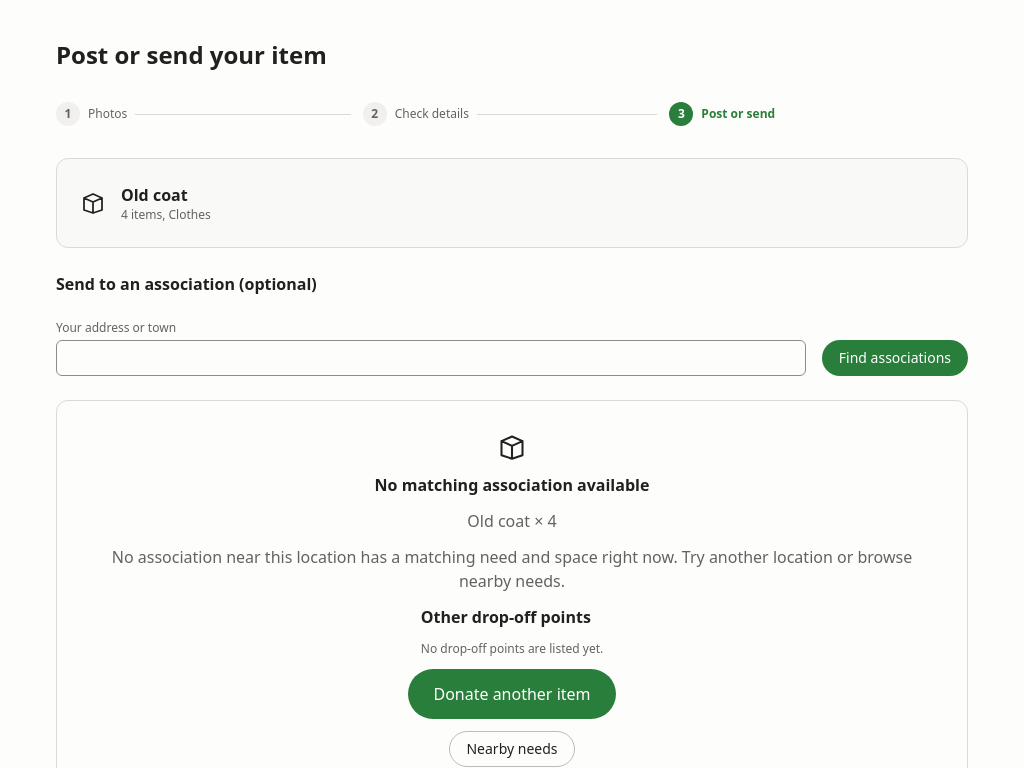
Test case: starts a fresh item from the no match screen on the same donation URL
Click the button "Donate another item": (512, 694) top-left (408, 669), bottom-right (616, 719)
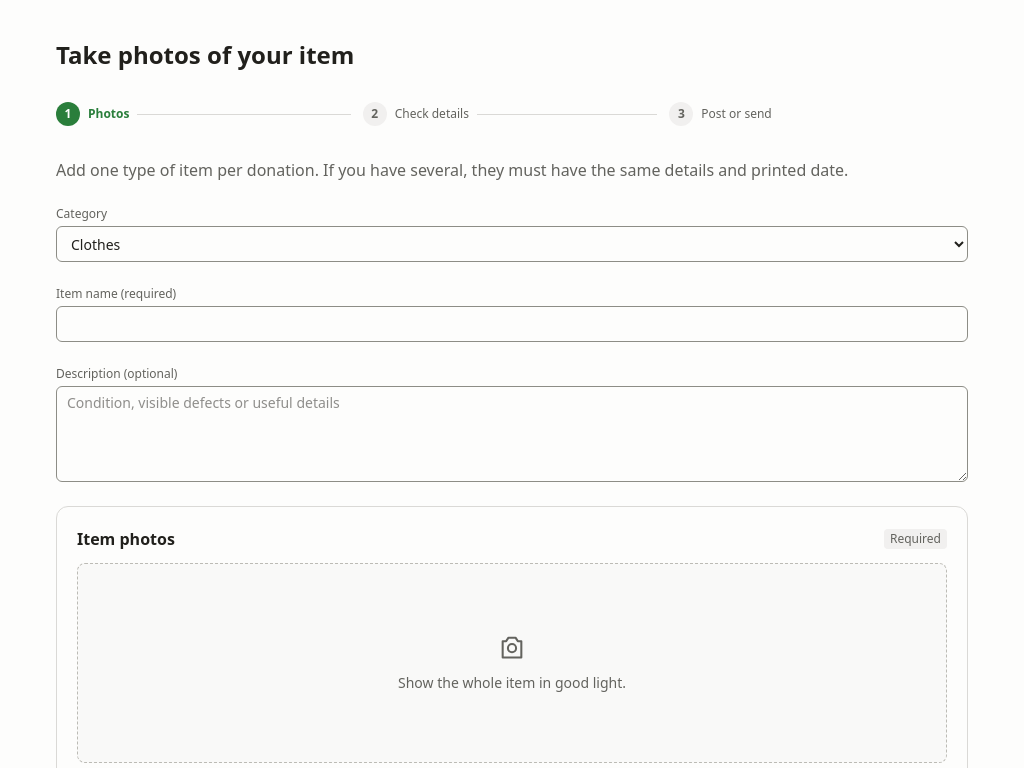
Result: the text "Take photos of your item" is shown at top-left (56, 40), bottom-right (354, 70)
